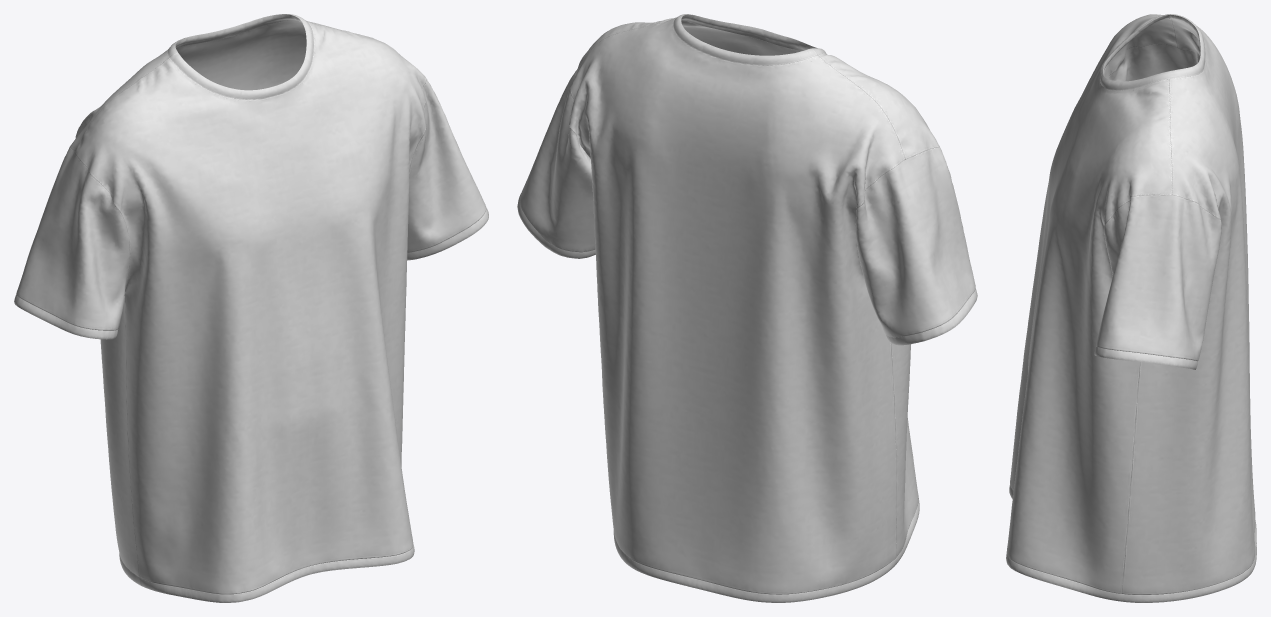
Rendered from Hoodiee.glb.
The picture shows the model from 3 angles, left to right: view 1: azimuth 30°, elevation 25°; view 2: azimuth 150°, elevation 25°; view 3: azimuth 270°, elevation 25°; orthographic projection. The views are drawn at different scales.
Visible parts, largest first — view 1: Object_2; view 2: Object_2; view 3: Object_2.
Part boxes in pixels (x1,y1,x2,y2): Object_2: [14, 14, 488, 602]; Object_2: [517, 14, 977, 602]; Object_2: [1006, 14, 1256, 602].
Bounding box in the file's own units: 0.637 × 0.7108 × 0.3212.
1 material, 1 textured.
